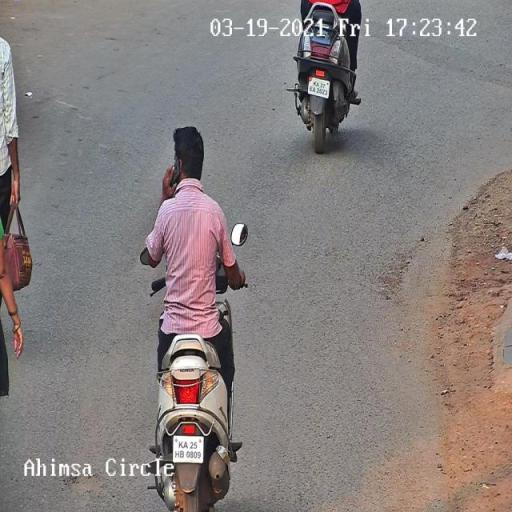numberplate: (174, 434, 204, 465)
using mobile: (158, 157, 190, 196)
